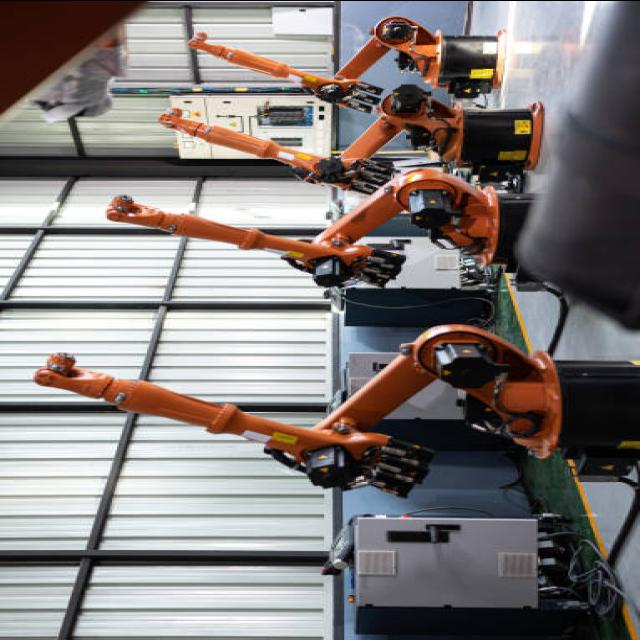Robotic-arm: (28, 324, 564, 498), (100, 168, 503, 286), (161, 90, 465, 192), (178, 14, 450, 92)
